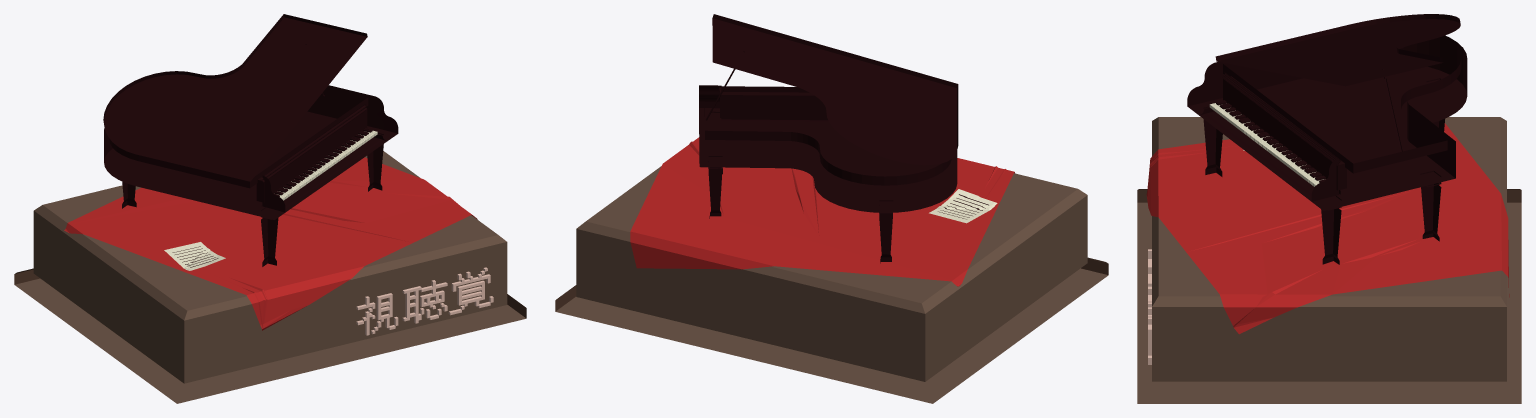
Rendered from piano4.glb.
3 views of the same model, side by side, from view 1: azimuth 30°, elevation 25°; view 2: azimuth 150°, elevation 25°; view 3: azimuth 270°, elevation 25° (orthographic). The views are drawn at different scales.
Visible parts, largest first — view 1: piano; view 2: piano; view 3: piano.
Boxes of the visible parts, x1,y1,x2,y2 form: piano: [14, 14, 526, 403]; piano: [555, 14, 1108, 403]; piano: [1137, 14, 1521, 403].
Bounding box in the file's own units: 7.97 × 5.19 × 6.43.
